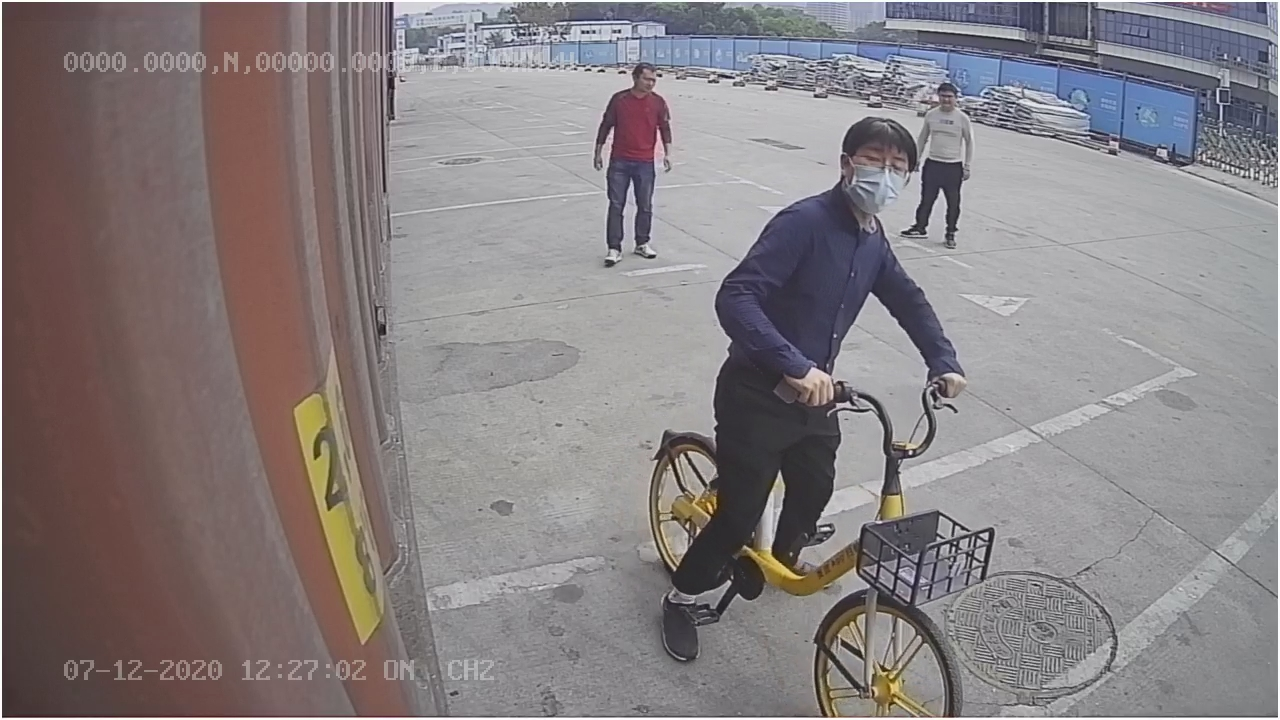person: (588, 60, 677, 269)
